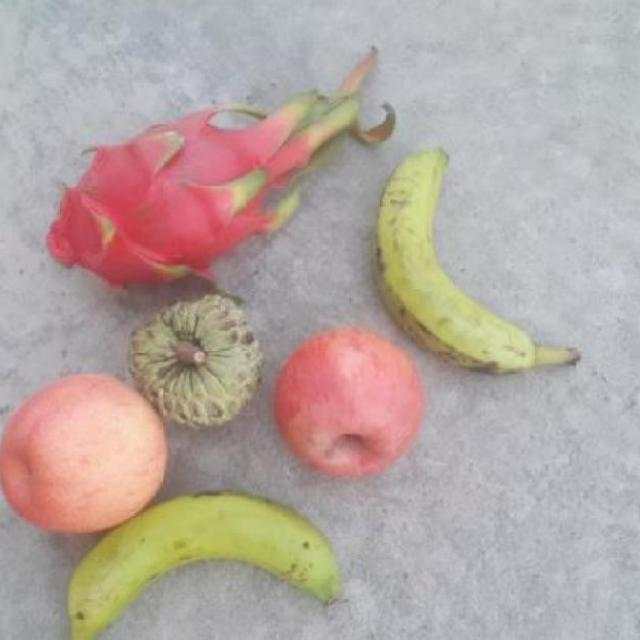apple: (0, 368, 165, 534), (277, 326, 425, 480)
banana: (371, 142, 588, 380), (62, 492, 348, 640)
dragon fruit: (46, 114, 272, 294)
sugar apple: (127, 292, 271, 425)
